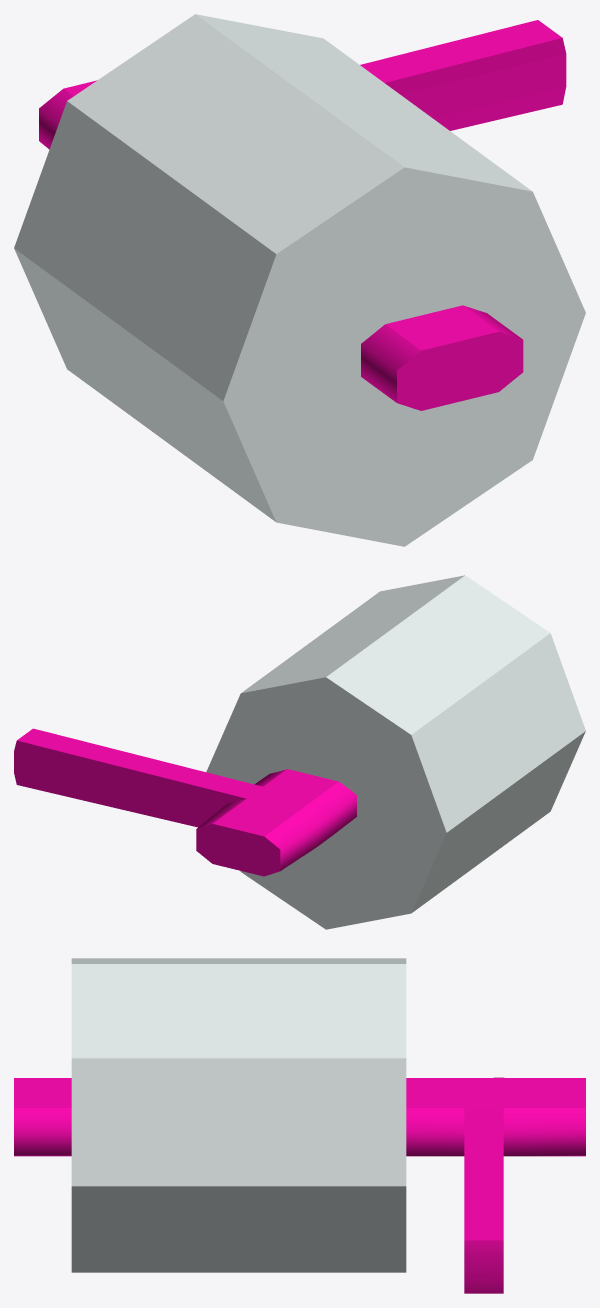
File: toliet_paper.fbx
3 renders of one model, top to bottom at view 1: azimuth 30°, elevation 25°; view 2: azimuth 150°, elevation 25°; view 3: azimuth 270°, elevation 25°, orthographic. The views are drawn at different scales.
Visible parts, largest first — view 1: pCylinder6; view 2: pCylinder6; view 3: pCylinder6.
Boxes of the visible parts, x1=… form: pCylinder6: x1=14, y1=14, x2=585, y2=546; pCylinder6: x1=14, y1=575, x2=585, y2=929; pCylinder6: x1=14, y1=958, x2=585, y2=1293.
Bounding box in the file's own units: 0.9677 × 0.5955 × 1.02.
